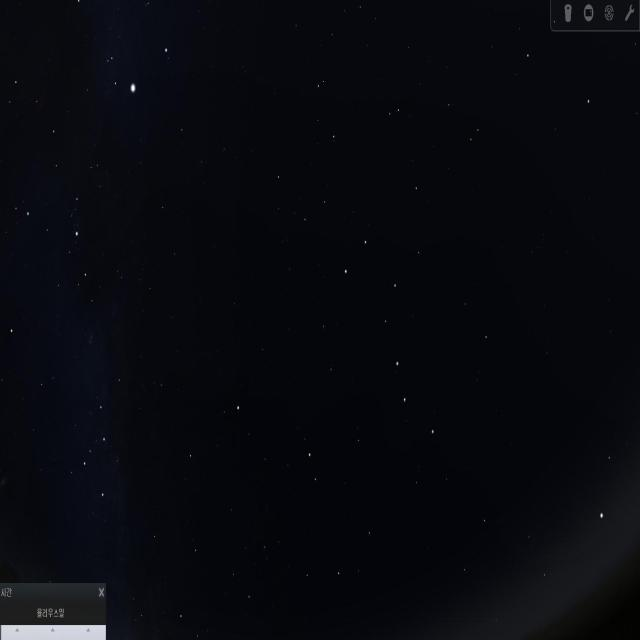cassiopeia: (68, 356, 158, 504)
ursa_major: (342, 224, 438, 445)
